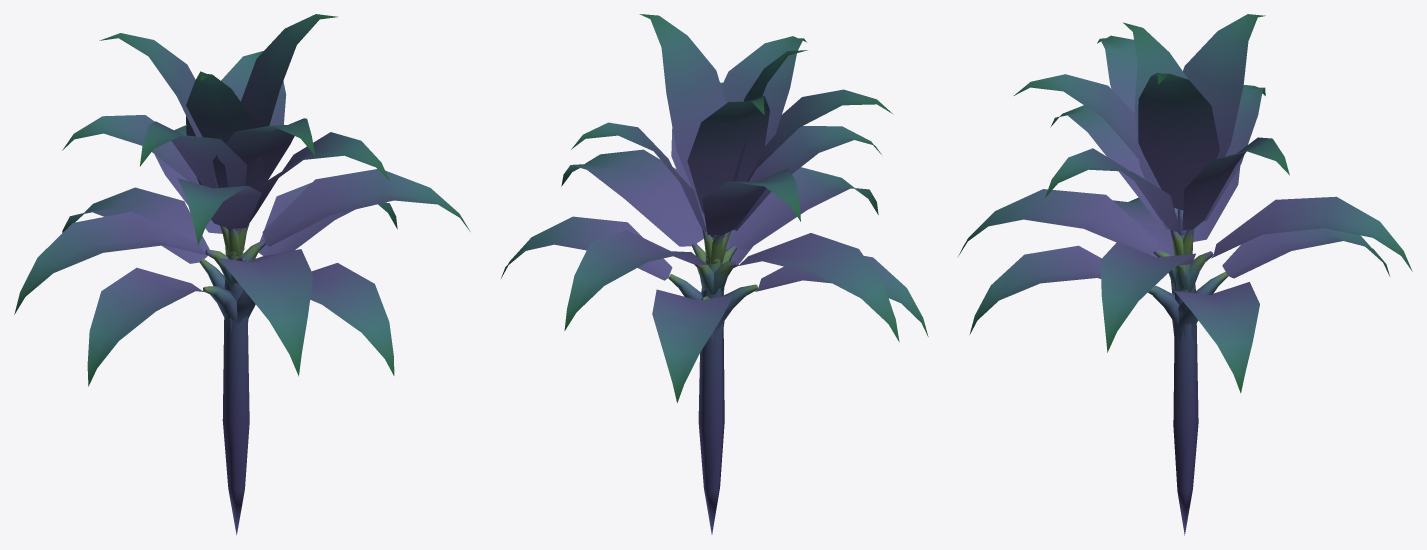
The model's file is plants-leafy-plants-bromeliad_v5.fbx.
The picture shows the model from 3 angles, left to right: view 1: azimuth 30°, elevation 25°; view 2: azimuth 150°, elevation 25°; view 3: azimuth 270°, elevation 25°; orthographic projection. The views are drawn at different scales.
Visible parts, largest first — view 1: Bromeliad_v5; view 2: Bromeliad_v5; view 3: Bromeliad_v5.
Part boxes in pixels (left/top/right/bottom): Bromeliad_v5: left=14, top=14, right=470, bottom=534; Bromeliad_v5: left=501, top=14, right=928, bottom=534; Bromeliad_v5: left=957, top=14, right=1412, bottom=535.
Bounding box in the file's own units: 0.4137 × 0.5 × 0.4163.
